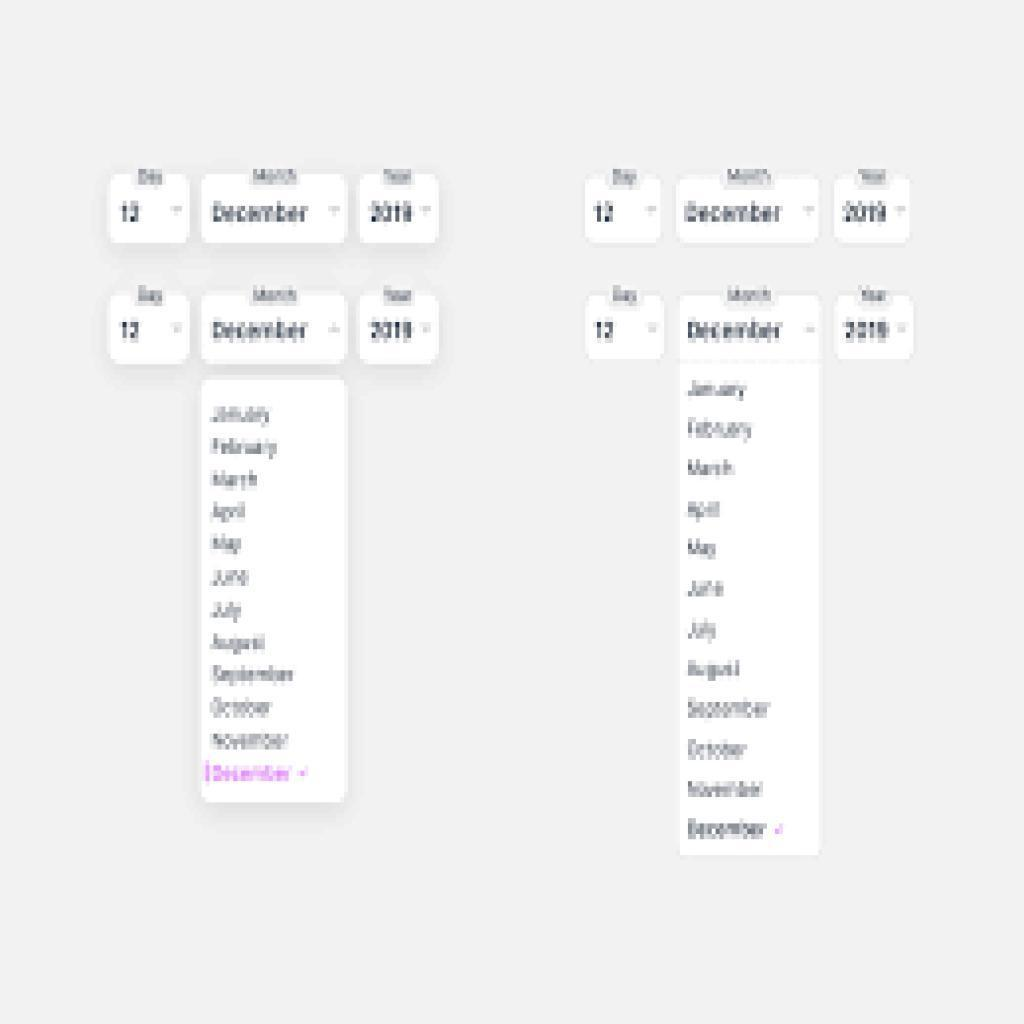dropdown: (200, 294, 350, 367), (201, 172, 348, 246), (677, 174, 821, 248), (677, 295, 828, 365), (582, 292, 668, 362), (108, 174, 191, 246), (110, 295, 193, 367), (358, 174, 442, 245), (831, 296, 919, 363), (832, 177, 916, 247), (358, 297, 440, 366), (584, 174, 663, 244)
